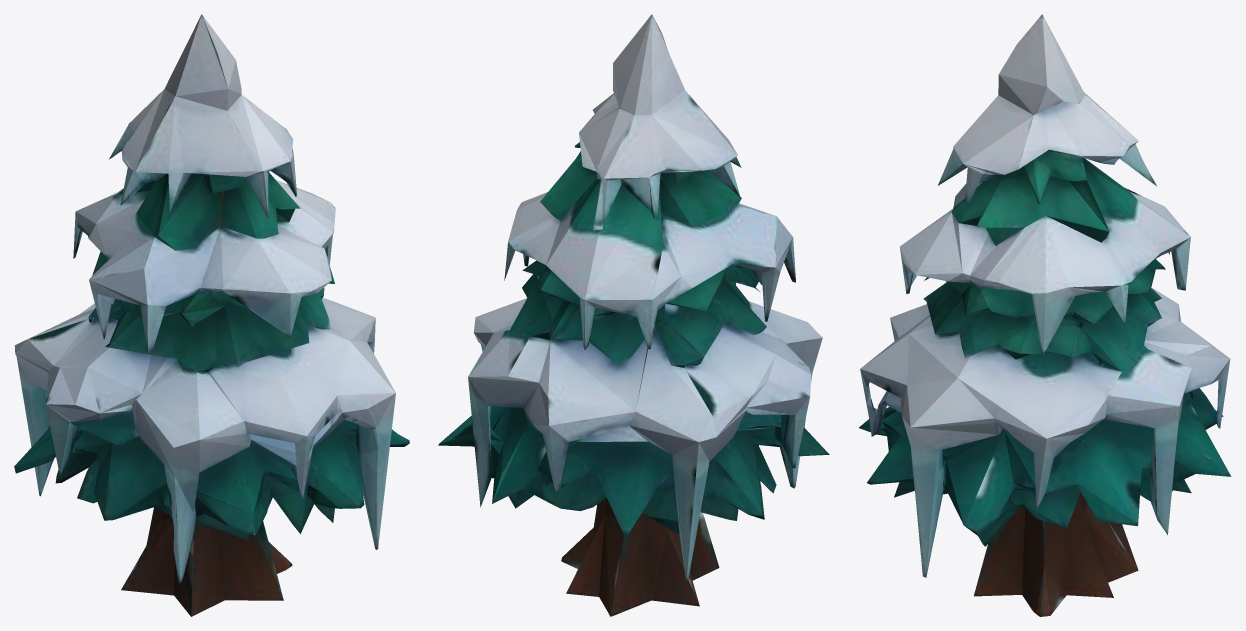
Rendered from d_givre_sapin.glb.
The picture shows the model from 3 angles, left to right: view 1: azimuth 30°, elevation 25°; view 2: azimuth 150°, elevation 25°; view 3: azimuth 270°, elevation 25°; orthographic projection. The views are drawn at different scales.
Visible parts, largest first — view 1: geometry_0; view 2: geometry_0; view 3: geometry_0.
Part boxes in pixels (<box>): geometry_0: <box>14,14,409,616</box>; geometry_0: <box>438,14,829,616</box>; geometry_0: <box>859,14,1231,616</box>.
Bounding box in the file's own units: 0.6109 × 1 × 0.6035.
1 material, 1 textured.
